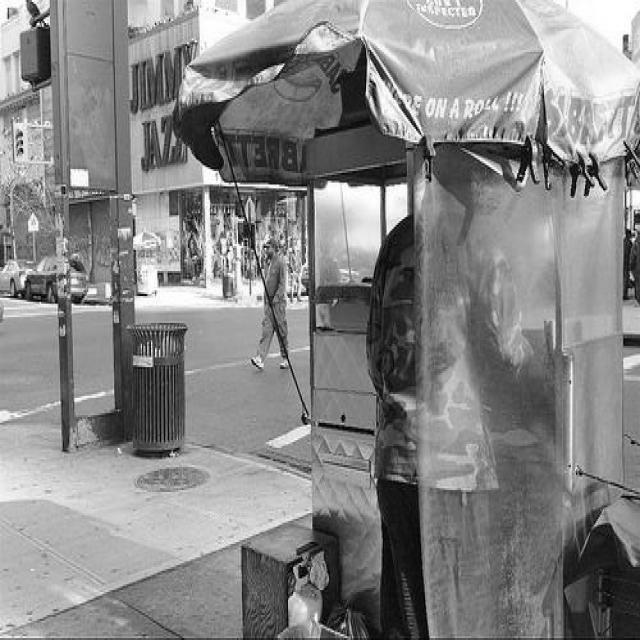vehicle: (23, 252, 89, 304), (0, 257, 38, 295)
